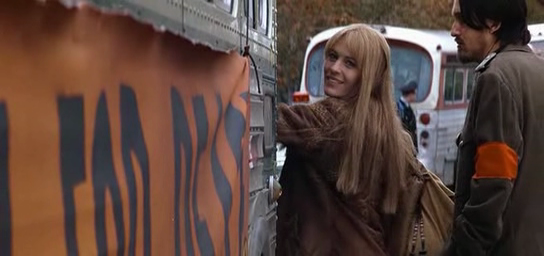face: (323, 46, 359, 98), (451, 1, 478, 63)
ms: (1, 1, 544, 256)
person: (277, 23, 419, 256), (452, 1, 544, 256)
